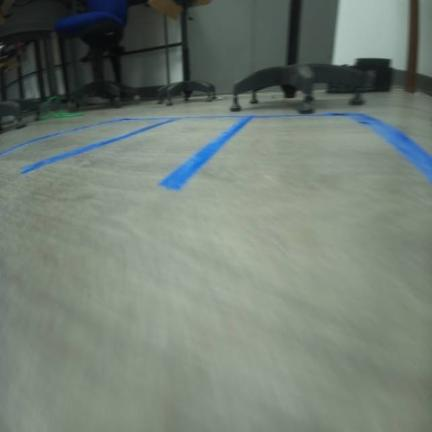place: (159, 108, 431, 191), (18, 115, 254, 192), (0, 115, 184, 177)
